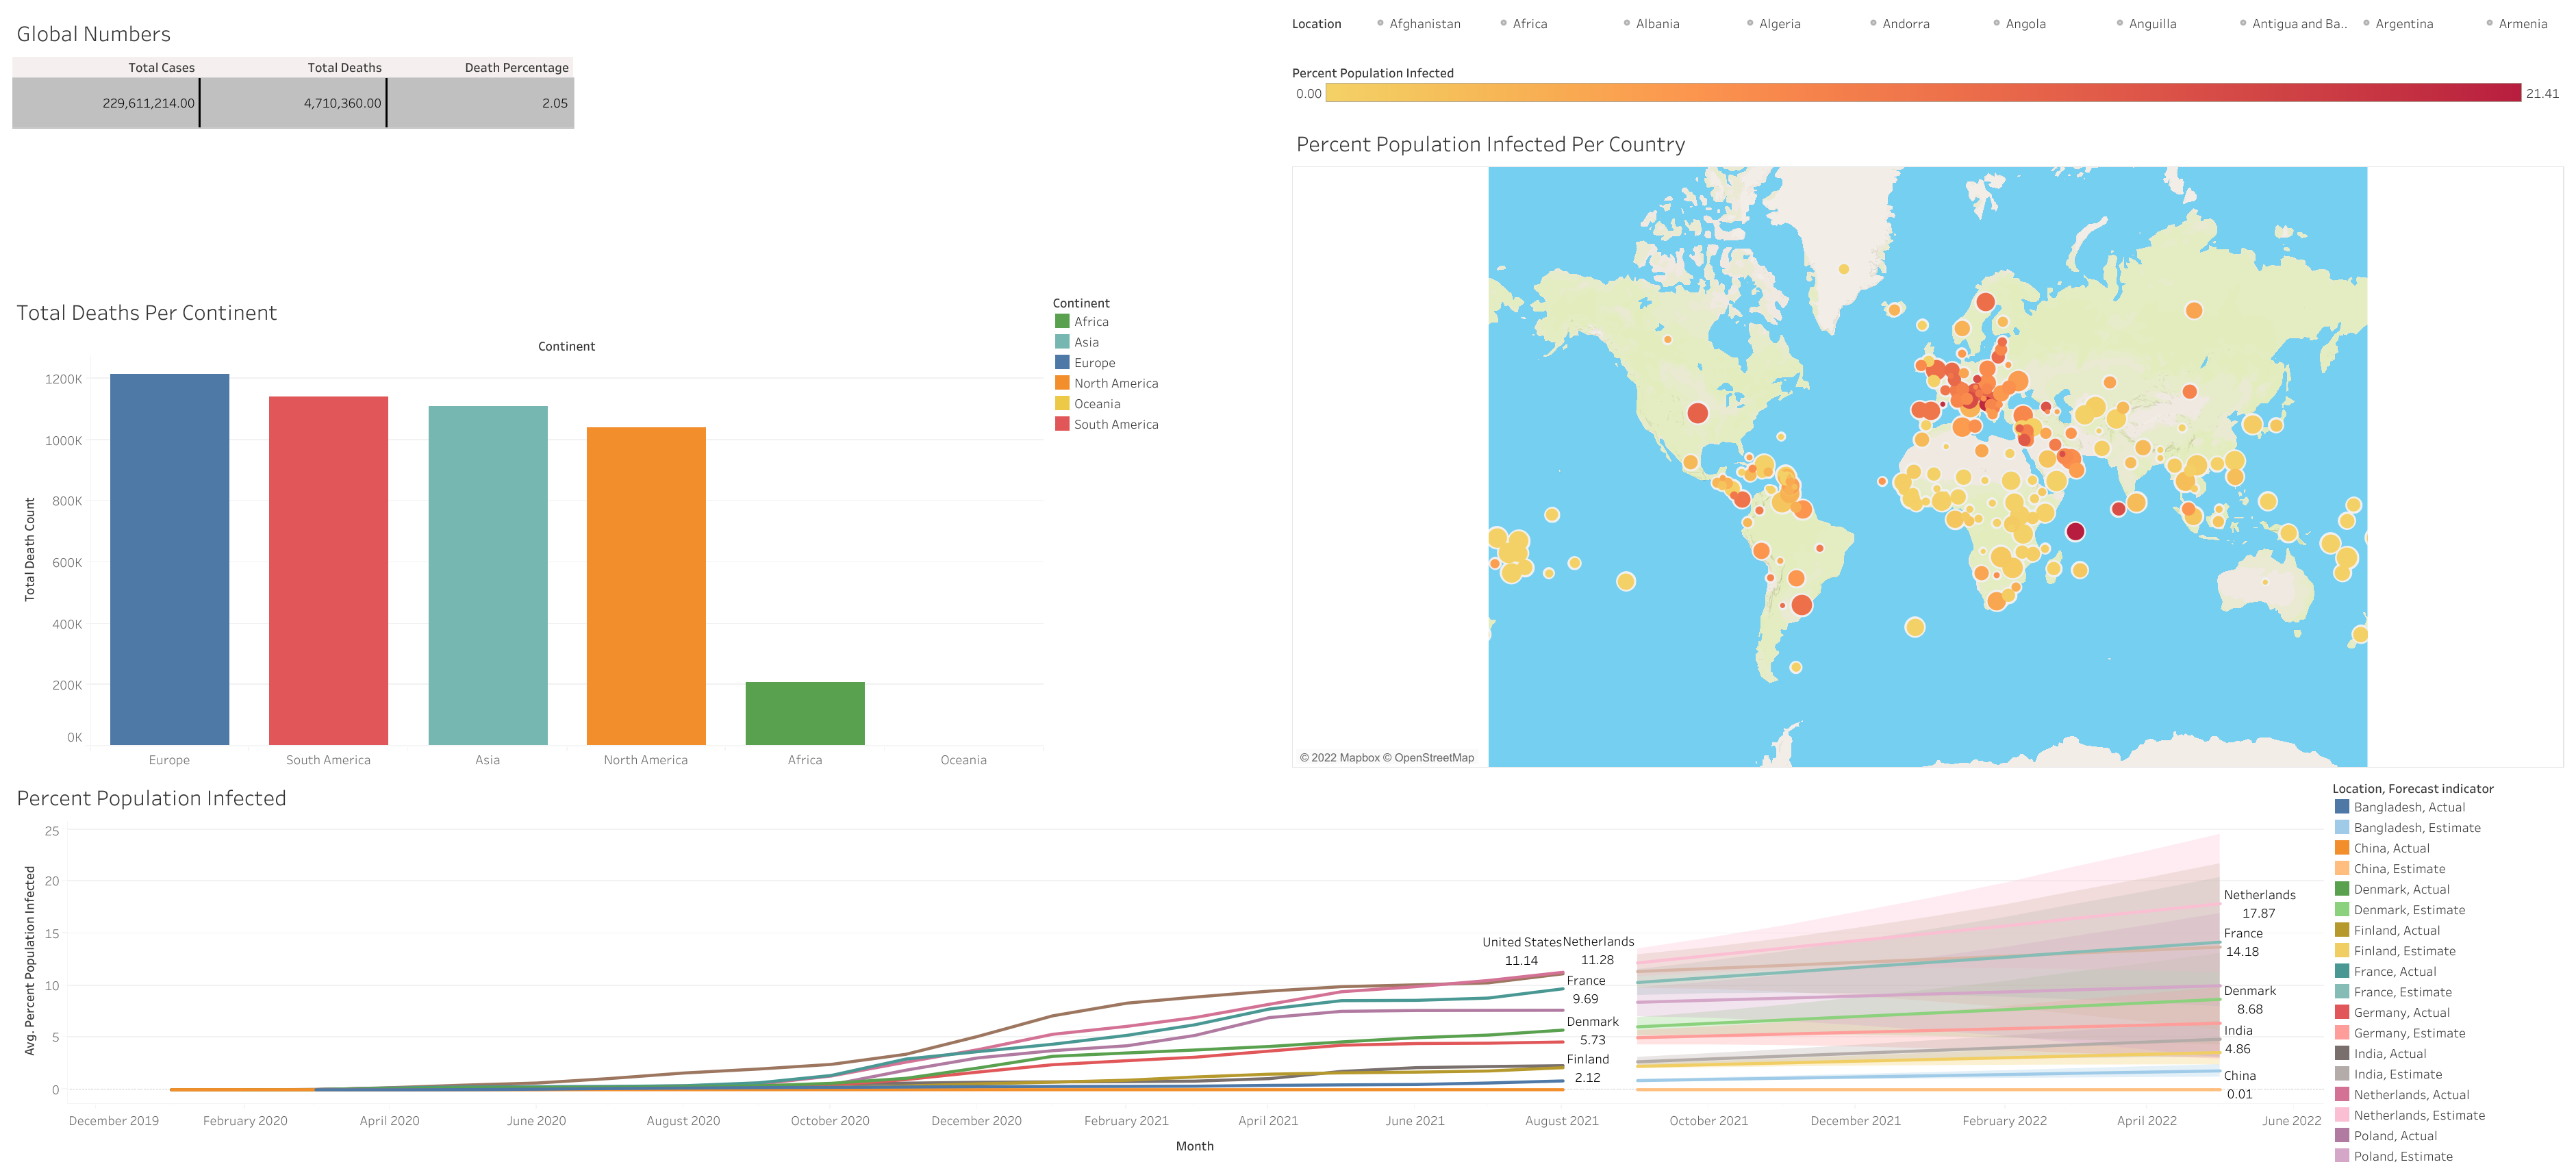

The page's visual inventory and layout, read from the dashboard file:
{"tool":"tableau","page":{"name":"Dashboard 1","canvas":[1000,1000],"units":"permille","ordinal":0},"visuals":[{"type":"worksheet","title":"Sheet 1","mark":"Automatic","box":[4.7,4.2,495.3,238.6]},{"type":"legend","title":"Sheet 3","param":"[federated.0h9l9nm0x3edcf1fxgjhu1tbfoqh].[none:Location:nk]","box":[500,4.2,495.3,39.8]},{"type":"legend","title":"Sheet 3","param":"[federated.0h9l9nm0x3edcf1fxgjhu1tbfoqh].[sum:PercentPopulationInfected:qk]","box":[500,44,495.3,54.6]},{"type":"worksheet","title":"Sheet 3","mark":"Automatic","box":[500,98.6,495.3,560]},{"type":"worksheet","title":"Sheet 2","mark":"Automatic","rows":["TotalDeathCount"],"cols":["location"],"box":[4.7,242.8,402.1,415.8]},{"type":"legend","title":"Sheet 2","param":"[federated.0d8zxrv157kj1z158goe50lcxt45].[none:location:nk]","box":[406.8,242.8,93.2,415.8]},{"type":"worksheet","title":"Sheet 4","mark":"Automatic","rows":["PercentPopulationInfected"],"cols":["date"],"box":[4.7,658.6,897.4,337.2]},{"type":"legend","title":"Sheet 4","param":"[federated.0marzkq1vwftcy13mwqoi028slzj].[none:Location:nk]\n[federated.0marzkq1v","box":[902.1,658.6,93.2,337.2]}]}

Visuals, with their boxes on the dashboard's canvas, which has no fixed pixel size, in thousandths of its width and height (x1, y1, x2, y2). These are canvas units, not pixel positions in the 2576x1173 screenshot, which may show the page scaled, cropped or inside an application window:
"Sheet 1" worksheet: Rect(5, 4, 500, 243)
"Sheet 3" legend: Rect(500, 4, 995, 44)
"Sheet 3" legend: Rect(500, 44, 995, 99)
"Sheet 3" worksheet: Rect(500, 99, 995, 659)
"Sheet 2" worksheet: Rect(5, 243, 407, 659)
"Sheet 2" legend: Rect(407, 243, 500, 659)
"Sheet 4" worksheet: Rect(5, 659, 902, 996)
"Sheet 4" legend: Rect(902, 659, 995, 996)
